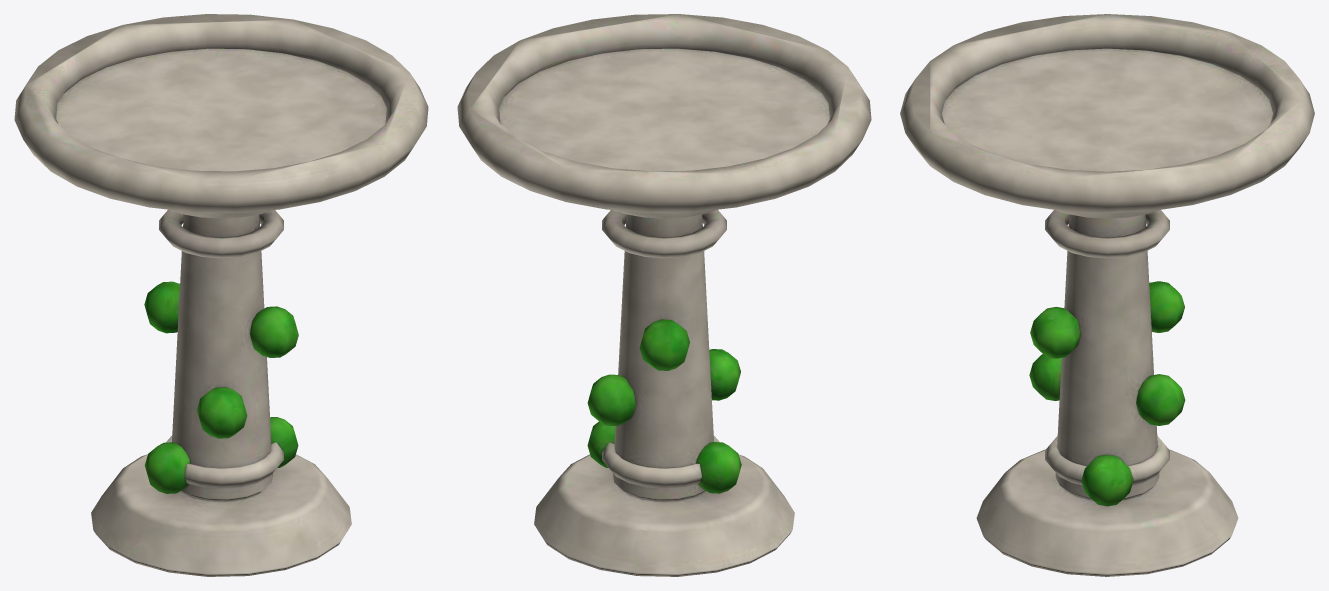
Rendered from birdbath.glb.
3 views of the same model, side by side, from view 1: azimuth 30°, elevation 25°; view 2: azimuth 150°, elevation 25°; view 3: azimuth 270°, elevation 25° (orthographic).
Visible parts, largest first — view 1: birdbath; view 2: birdbath; view 3: birdbath.
Boxes of the visible parts, x1,y1,x2,y2 form: birdbath: [14, 14, 428, 576]; birdbath: [457, 14, 871, 576]; birdbath: [900, 14, 1314, 576].
Bounding box in the file's own units: 0.556 × 0.6292 × 0.556.
Materials: 1 (1 with a texture image).
